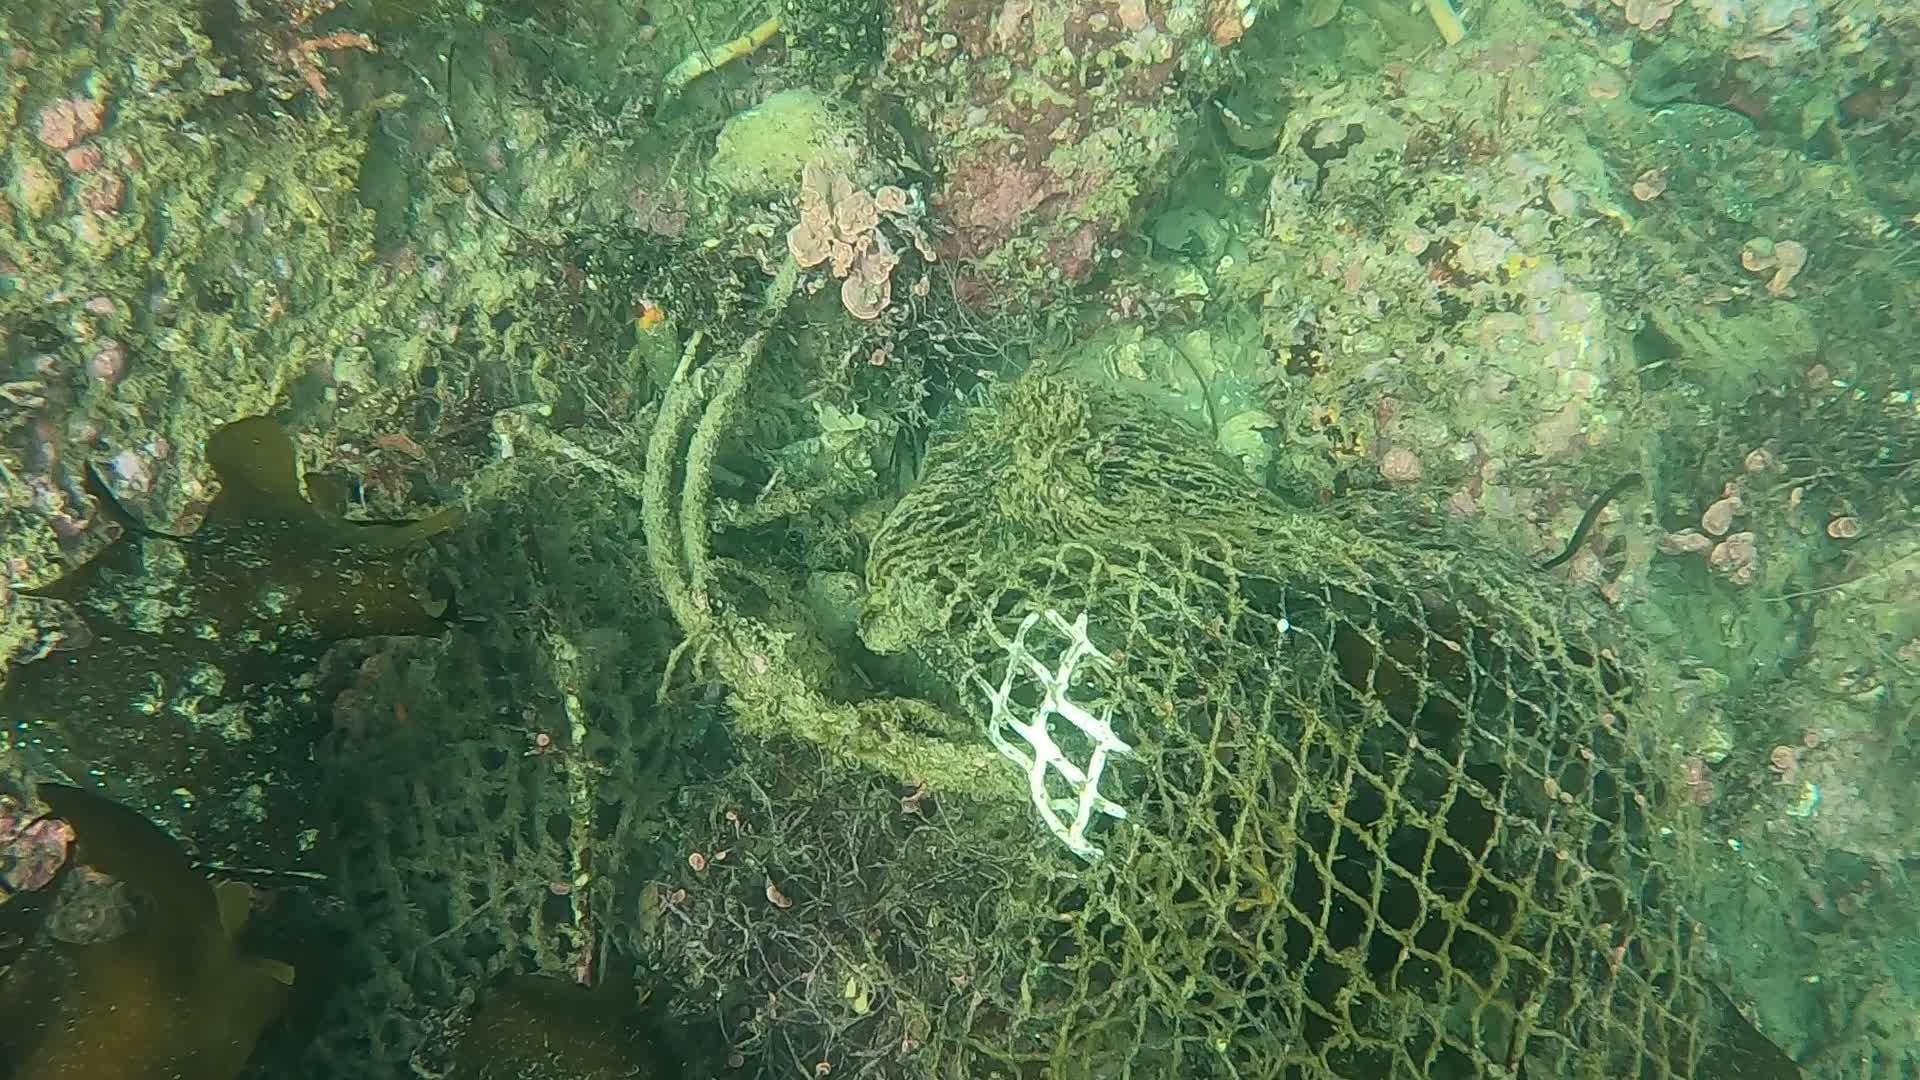fish net: (880, 398, 1725, 1080), (311, 647, 682, 1080)
